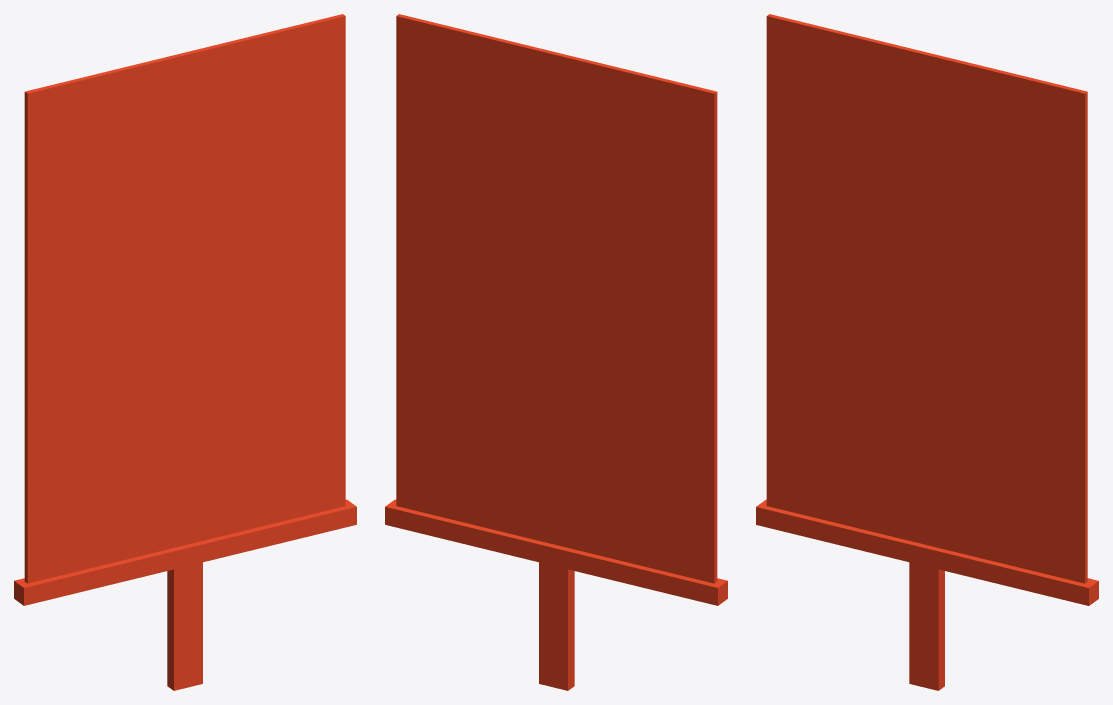
File: SM_Sign_Shelf_B_City.fbx
The picture shows the model from 3 angles, left to right: view 1: azimuth 30°, elevation 25°; view 2: azimuth 150°, elevation 25°; view 3: azimuth 330°, elevation 25°; orthographic projection.
Visible parts, largest first — view 1: SM_Sign_Shelf_B_City; view 2: SM_Sign_Shelf_B_City; view 3: SM_Sign_Shelf_B_City.
Part boxes in pixels (box(x1,y1,x2,y2)): SM_Sign_Shelf_B_City: box(14, 14, 356, 690); SM_Sign_Shelf_B_City: box(385, 14, 727, 690); SM_Sign_Shelf_B_City: box(756, 14, 1098, 690).
Bounding box in the file's own units: 0.2436 × 0.4413 × 0.0126.
